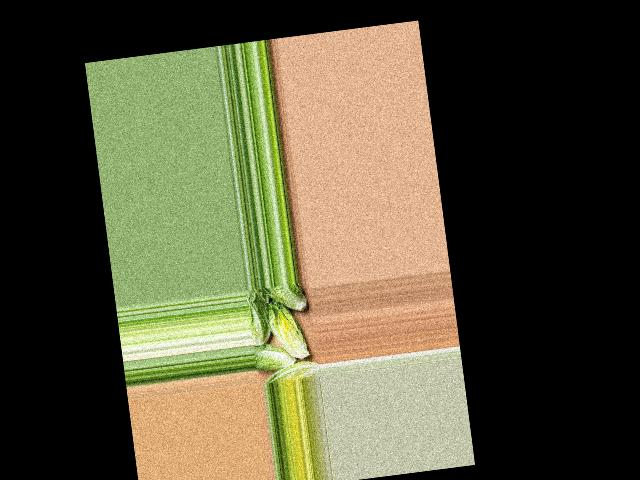lettuce: (262, 358, 319, 384)
